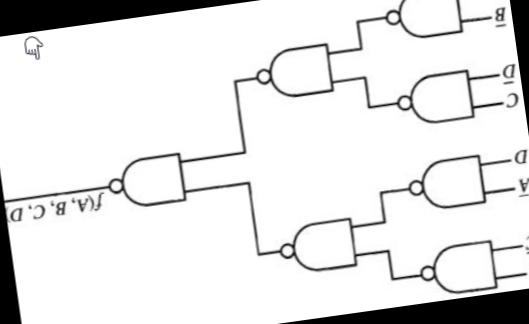nand: (100, 143, 194, 216), (248, 31, 336, 107), (272, 209, 361, 282), (413, 229, 501, 300), (392, 62, 478, 134), (404, 149, 488, 218), (377, 0, 467, 49)
